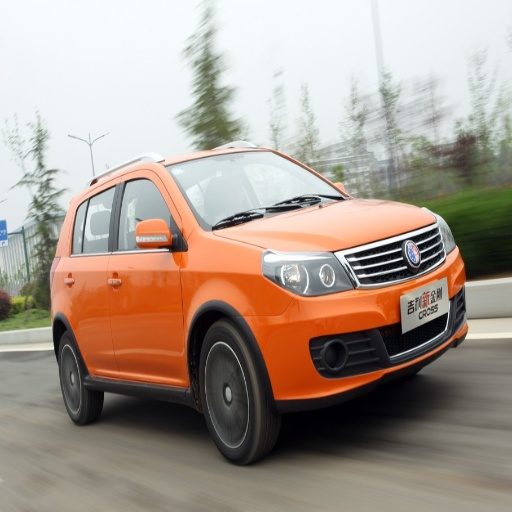front_bumper: (251, 223, 464, 410)
front_right_door: (110, 169, 183, 382)
front_right_light: (263, 252, 352, 296)
